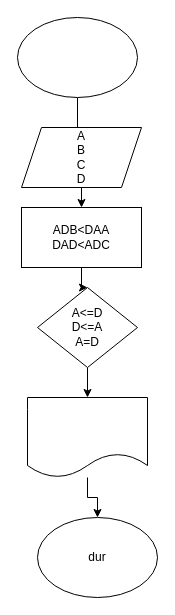
Image size: 175x615. Some labels were removed from this diagram. The shapes that lost their labels are listed below. From the top down, each one's box as (x1, y1, x2, y2) in pixels, then its label:
(16, 16, 138, 98): başla
(26, 396, 148, 478): B<A=D<C
